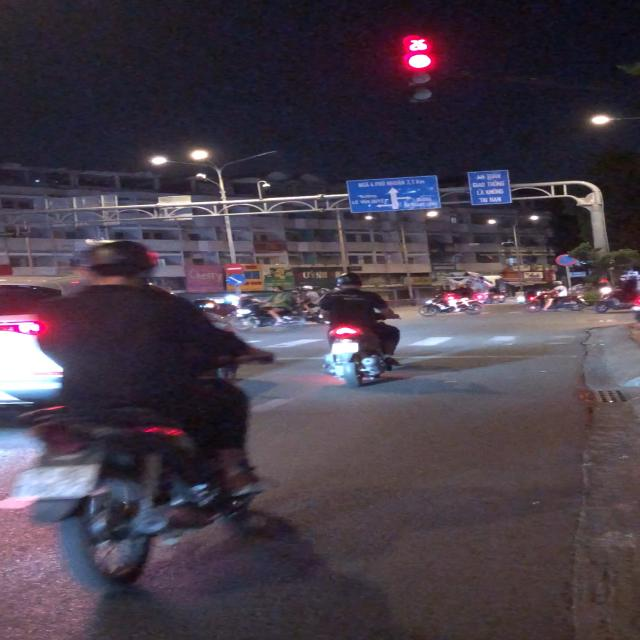Bien bao cam di nguoc chieu: (222, 262, 246, 274)
Bien bao huong phai di vong chuong ngai vat: (225, 274, 248, 286)
